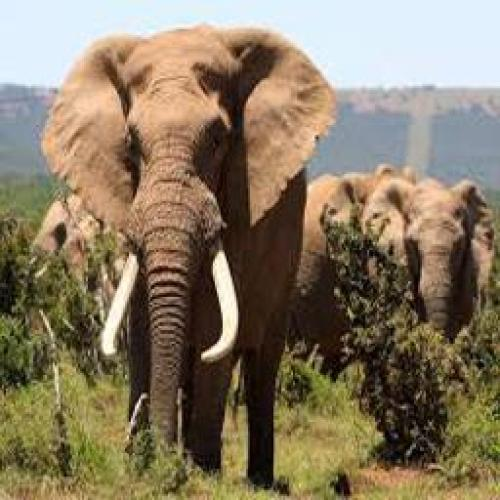african_elephant-endangered: (47, 30, 336, 480), (368, 178, 493, 348), (298, 165, 395, 351), (35, 194, 135, 348)
